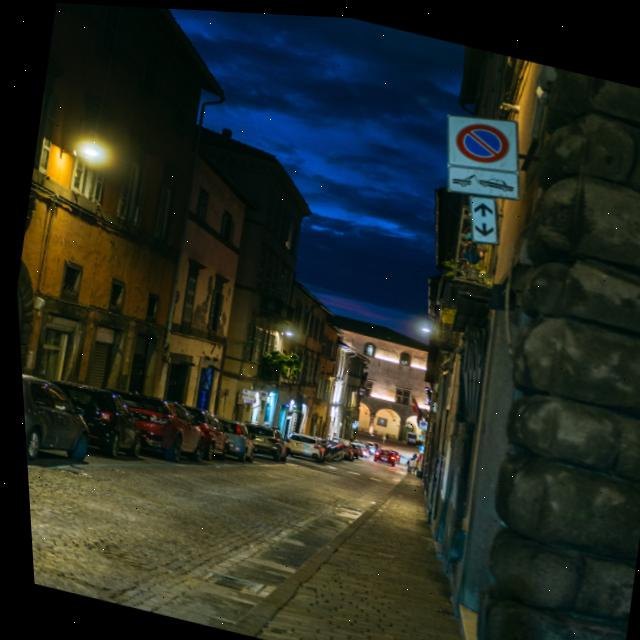building: (0, 0, 406, 455), (340, 39, 640, 640), (307, 309, 448, 450)
